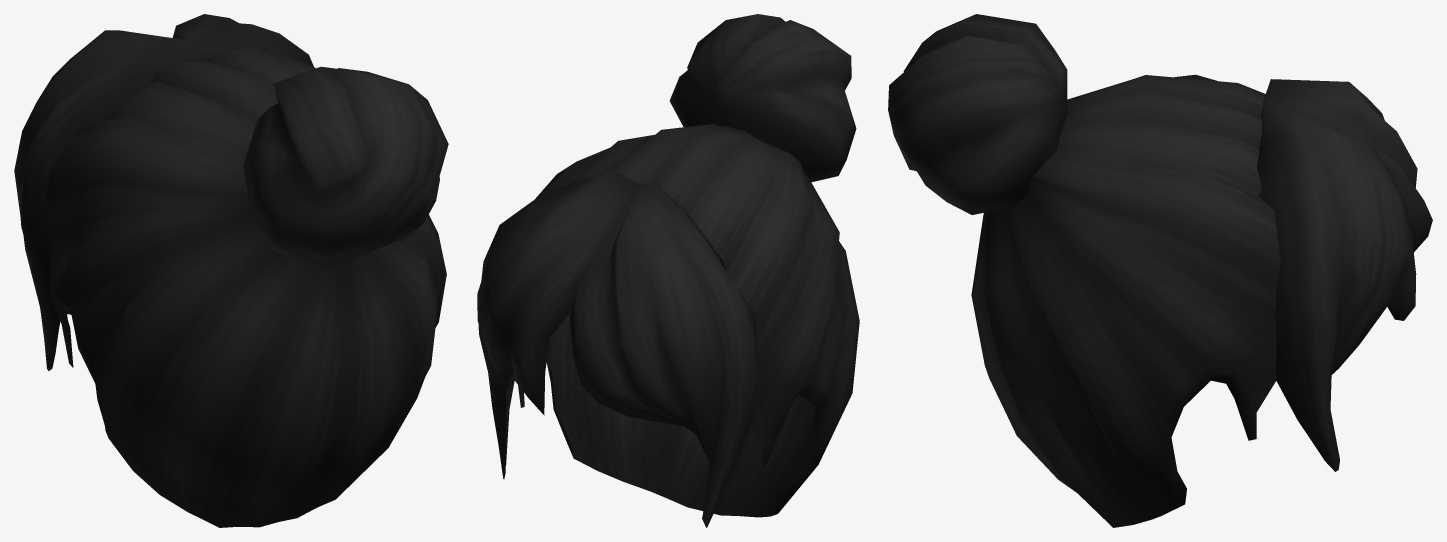
Rendered from Hair_Female_005_textured_black.glb.
3 views of the same model, side by side, from view 1: azimuth 30°, elevation 25°; view 2: azimuth 150°, elevation 25°; view 3: azimuth 270°, elevation 25° (orthographic). The views are drawn at different scales.
Visible parts, largest first — view 1: Hair_Female_005; view 2: Hair_Female_005; view 3: Hair_Female_005.
Boxes of the visible parts, bbox=[...] form: Hair_Female_005: bbox=[14, 14, 448, 527]; Hair_Female_005: bbox=[477, 14, 859, 527]; Hair_Female_005: bbox=[888, 14, 1432, 527].
Bounding box in the file's own units: 0.1944 × 0.2737 × 0.2809.
1 material, 1 textured.
